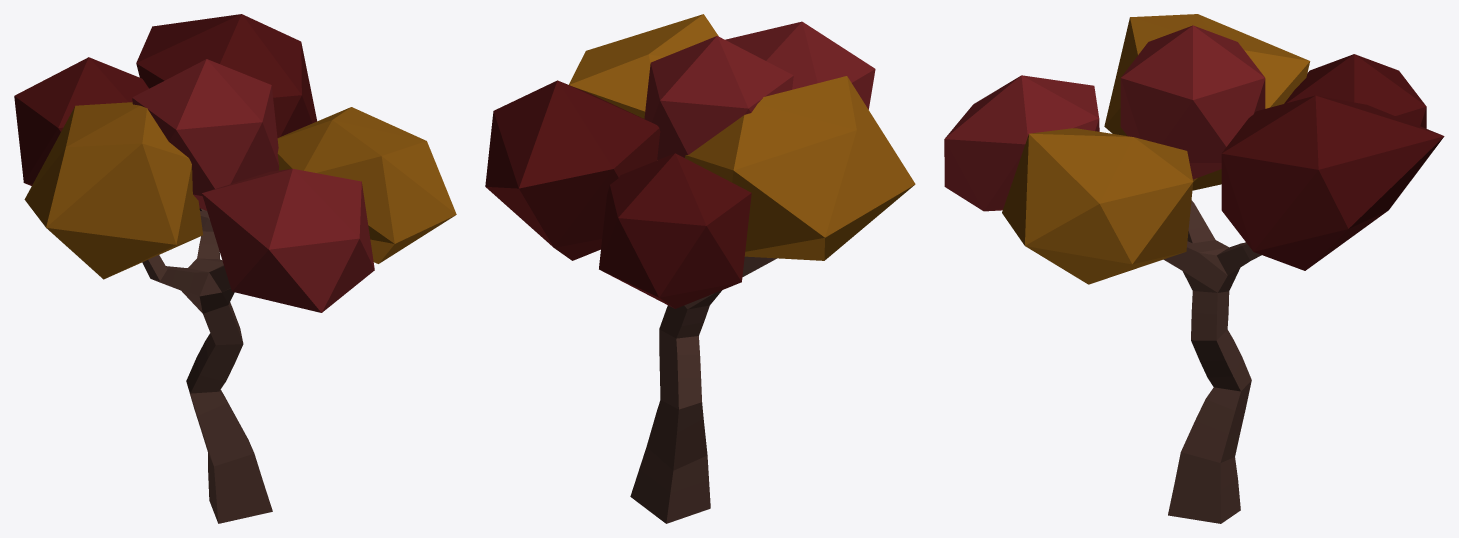
File: Tree.fbx
3 renders of one model, left to right at view 1: azimuth 30°, elevation 25°; view 2: azimuth 150°, elevation 25°; view 3: azimuth 270°, elevation 25°, orthographic. The views are drawn at different scales.
Visible parts, largest first — view 1: Icosphere.002, Icosphere.005, Icosphere.003, Cube, Icosphere.004, Icosphere.001, Icosphere; view 2: Icosphere.002, Icosphere.001, Icosphere, Cube, Icosphere.004, Icosphere.003, Icosphere.005; view 3: Icosphere.001, Icosphere.003, Cube, Icosphere.004, Icosphere.005, Icosphere.002, Icosphere.
Boxes of the visible parts, x1,y1,x2,y2 form: Icosphere.002: (24, 102, 203, 279); Icosphere.005: (202, 168, 374, 312); Icosphere.003: (277, 107, 456, 263); Cube: (142, 208, 272, 523); Icosphere.004: (132, 59, 279, 210); Icosphere.001: (136, 14, 316, 137); Icosphere: (14, 57, 148, 185); Icosphere.002: (685, 76, 915, 260); Icosphere.001: (485, 80, 660, 260); Icosphere: (599, 153, 751, 308); Cube: (630, 256, 776, 523); Icosphere.004: (644, 36, 793, 160); Icosphere.003: (569, 14, 718, 118); Icosphere.005: (725, 21, 875, 109); Icosphere.001: (1221, 95, 1444, 270); Icosphere.003: (1002, 128, 1193, 284); Cube: (1163, 200, 1261, 523); Icosphere.004: (1120, 25, 1265, 179); Icosphere.005: (944, 75, 1099, 211); Icosphere.002: (1104, 14, 1310, 190); Icosphere: (1284, 54, 1426, 128).
Bounding box in the file's own units: 497 × 612 × 588.
